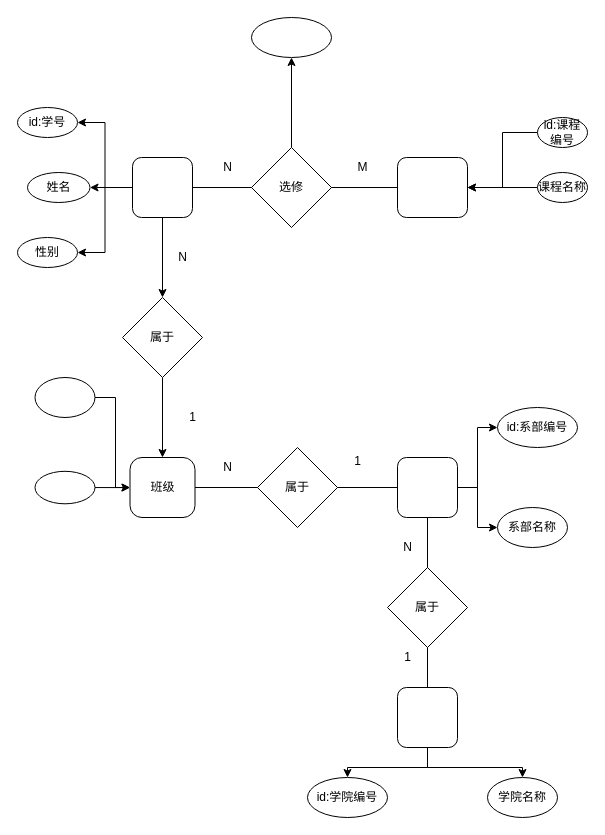
This 605x835 diagram has some shape labels left out. The box of each missing label's shape, as (x1, y1, x2, y2) in pixels:
id:班级编号: (34, 376, 95, 418)
学生: (132, 156, 192, 218)
学院: (396, 686, 458, 748)
成绩: (250, 16, 332, 58)
班级名称: (34, 470, 95, 504)
系部: (396, 456, 458, 518)
课程: (396, 156, 468, 218)
